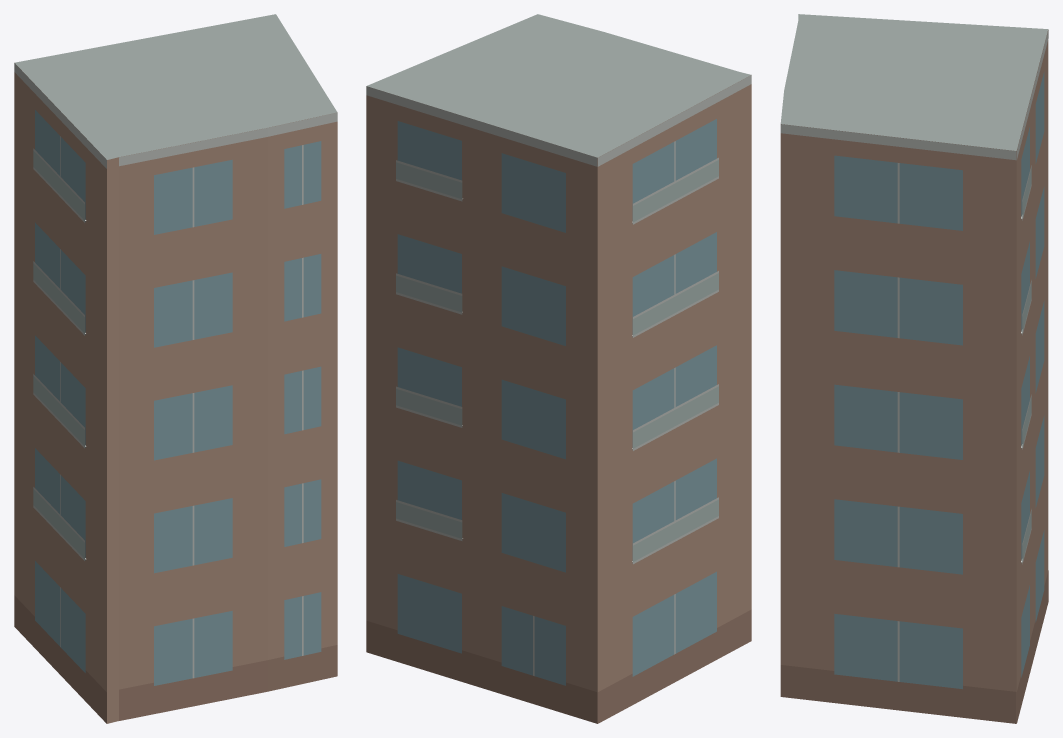
File: survey-upis-32456796.glb
The picture shows the model from 3 angles, left to right: view 1: azimuth 30°, elevation 25°; view 2: azimuth 150°, elevation 25°; view 3: azimuth 270°, elevation 25°; orthographic projection.
Visible parts, largest first — view 1: survey-upis-32456796.tmp; view 2: survey-upis-32456796.tmp; view 3: survey-upis-32456796.tmp.
Part boxes in pixels (x1,y1,x2,y2): survey-upis-32456796.tmp: [14, 14, 337, 723]; survey-upis-32456796.tmp: [366, 14, 751, 723]; survey-upis-32456796.tmp: [780, 14, 1048, 723].
Size of the model in its own units: 7.73 by 15.05 by 6.39.
